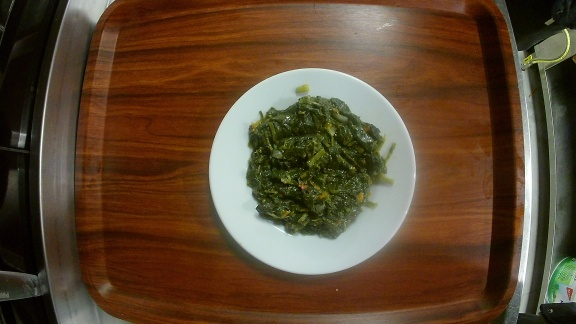ispanak: (202, 68, 418, 277)
